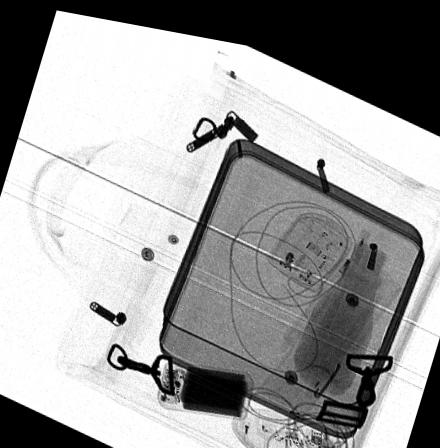Powerbank: (155, 353, 254, 410)
